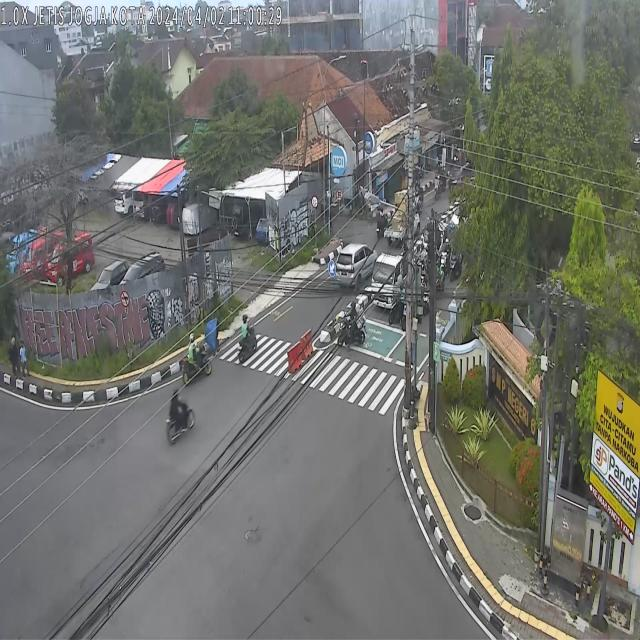car: (336, 242, 377, 288)
motorcycle: (165, 388, 196, 448), (181, 331, 212, 387), (337, 300, 368, 348), (237, 315, 257, 364), (388, 282, 406, 324), (450, 247, 462, 282), (376, 205, 388, 239), (440, 238, 450, 276), (436, 258, 445, 293), (422, 279, 430, 316)
truck: (371, 253, 407, 311), (385, 192, 420, 242)
